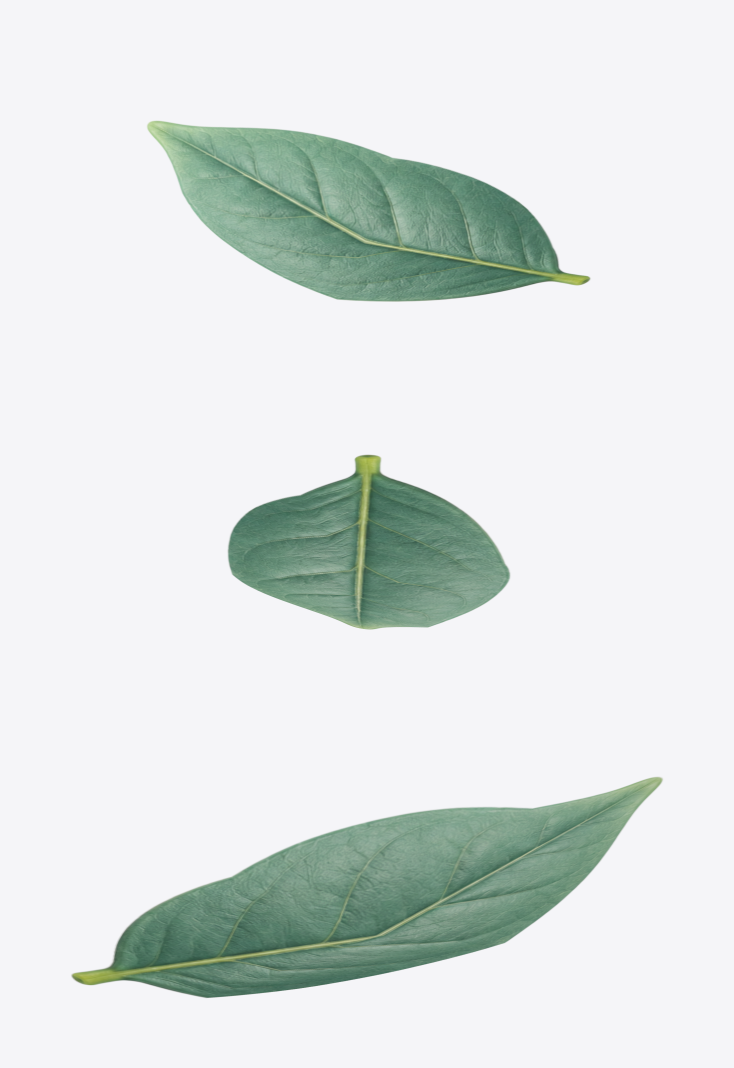
The model's file is hoja03.glb.
The picture shows the model from 3 angles, top to bottom: view 1: azimuth 30°, elevation 25°; view 2: azimuth 150°, elevation 25°; view 3: azimuth 270°, elevation 25°; orthographic projection. The views are drawn at different scales.
Parts seen in each view (by area): view 1: Object_2; view 2: Object_2; view 3: Object_2.
Part boxes in pixels (left/top/right/bottom): Object_2: left=146, top=120, right=590, bottom=301; Object_2: left=227, top=454, right=510, bottom=629; Object_2: left=71, top=776, right=662, bottom=997.
Size of the model in its own units: 0.3745 by 0.0638 by 0.3705.
Materials: 1 (1 with a texture image).
